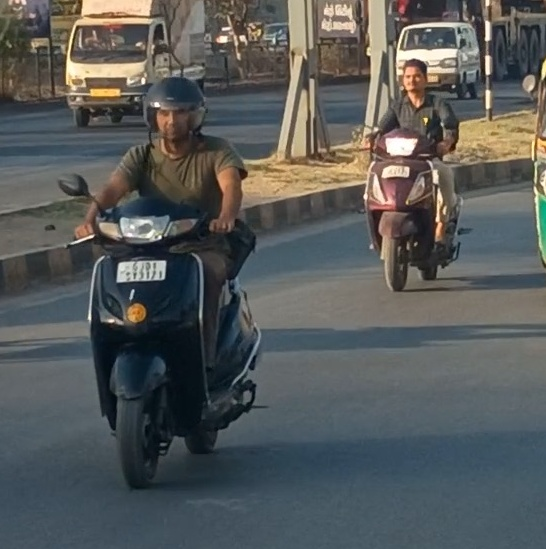BikeWithRider: (51, 70, 270, 497), (353, 54, 478, 295)
Helmet: (133, 73, 219, 152)
NoHelmet: (391, 56, 438, 100)
